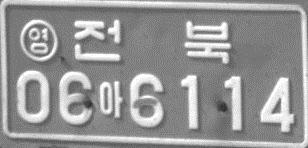0: (16, 70, 51, 123)
1: (215, 74, 252, 131), (173, 73, 208, 129)
4: (260, 77, 295, 132)
6: (127, 71, 164, 128), (57, 70, 93, 126)
아: (98, 79, 123, 118)
영: (18, 17, 60, 63)
전북_D: (71, 17, 233, 66)
